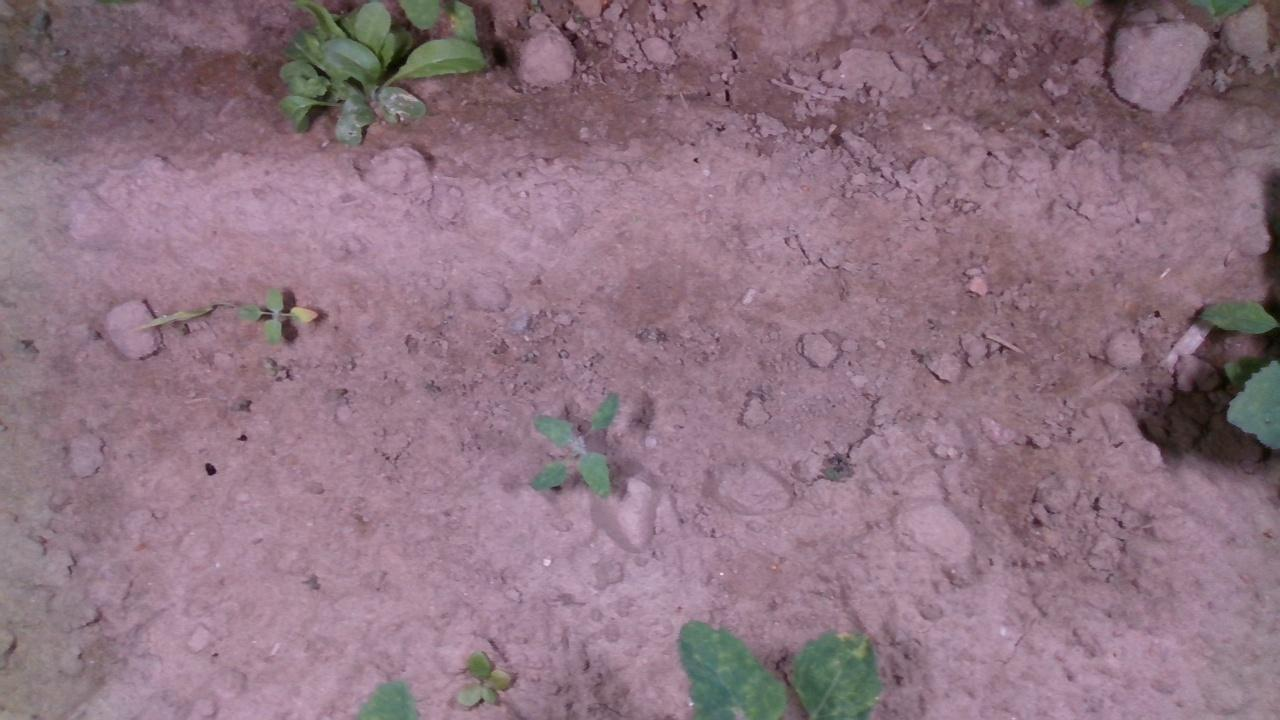weed: (238, 284, 315, 348)
